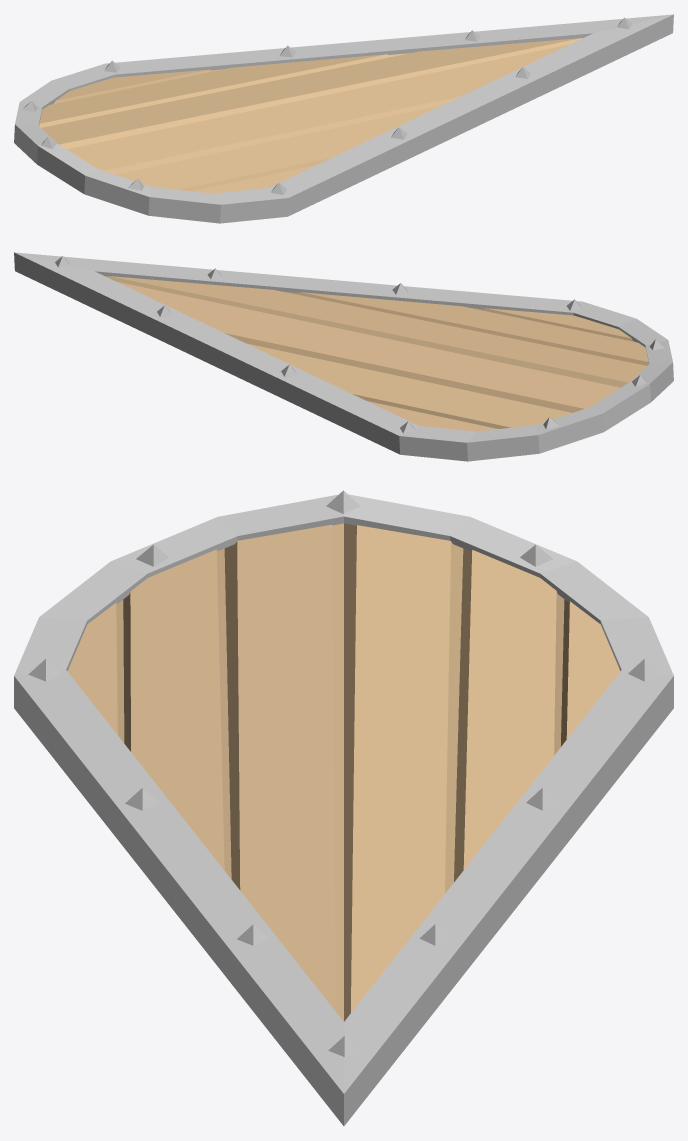
File: Shield_3_b_wood.fbx
The picture shows the model from 3 angles, top to bottom: view 1: azimuth 30°, elevation 25°; view 2: azimuth 150°, elevation 25°; view 3: azimuth 270°, elevation 25°; orthographic projection. The views are drawn at different scales.
Parts seen in each view (by area): view 1: Circle.033, Circle.034; view 2: Circle.033, Circle.034; view 3: Circle.033, Circle.034.
Boxes of the visible parts, <box> form: Circle.033: <box>39,38,582,193</box>; Circle.034: <box>14,14,673,223</box>; Circle.033: <box>105,276,648,431</box>; Circle.034: <box>14,252,673,461</box>; Circle.033: <box>67,523,620,1021</box>; Circle.034: <box>14,494,673,1125</box>.
Bounding box in the file's own units: 148 × 17.7 × 74.
